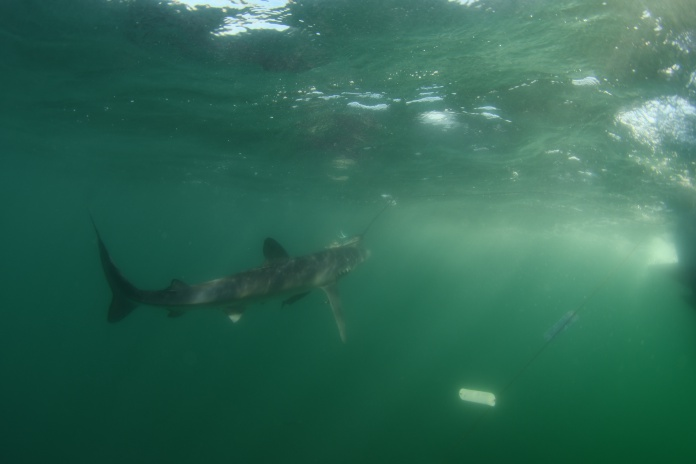Azul: (74, 200, 372, 350)
